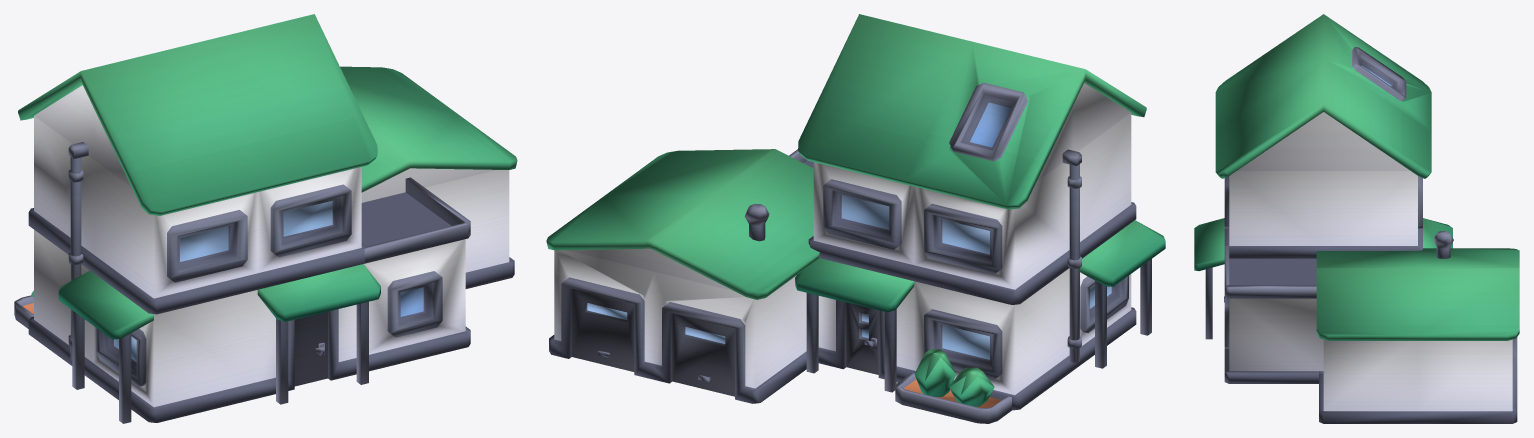
File: house-n.glb
The picture shows the model from 3 angles, left to right: view 1: azimuth 30°, elevation 25°; view 2: azimuth 150°, elevation 25°; view 3: azimuth 270°, elevation 25°; orthographic projection. The views are drawn at different scales.
Visible parts, largest first — view 1: building-type-n baked; view 2: building-type-n baked; view 3: building-type-n baked.
Part boxes in pixels (bbox=[...]): building-type-n baked: bbox=[14, 14, 517, 423]; building-type-n baked: bbox=[546, 14, 1165, 423]; building-type-n baked: bbox=[1194, 14, 1519, 423].
Size of the model in its own units: 10.98 by 7 by 8.48.
1 material, 1 textured.
